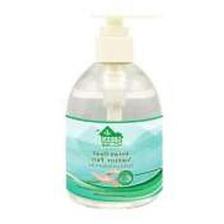aerosol_cans: (61, 9, 169, 213)
